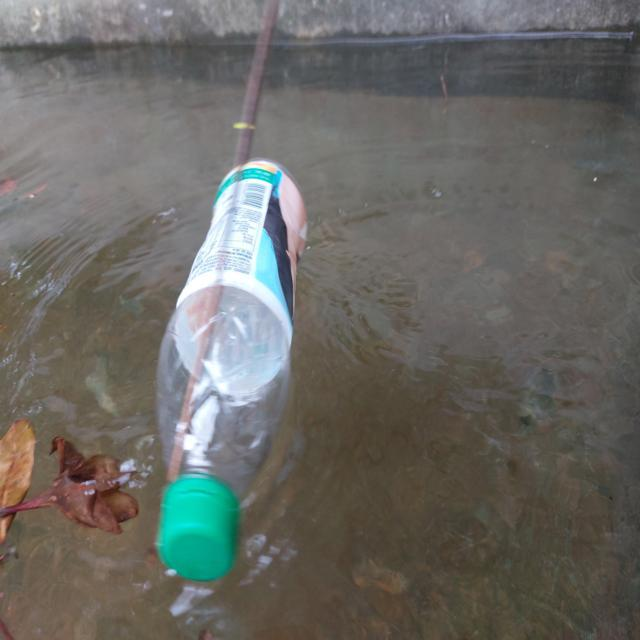waterbottle: (159, 154, 318, 589)
